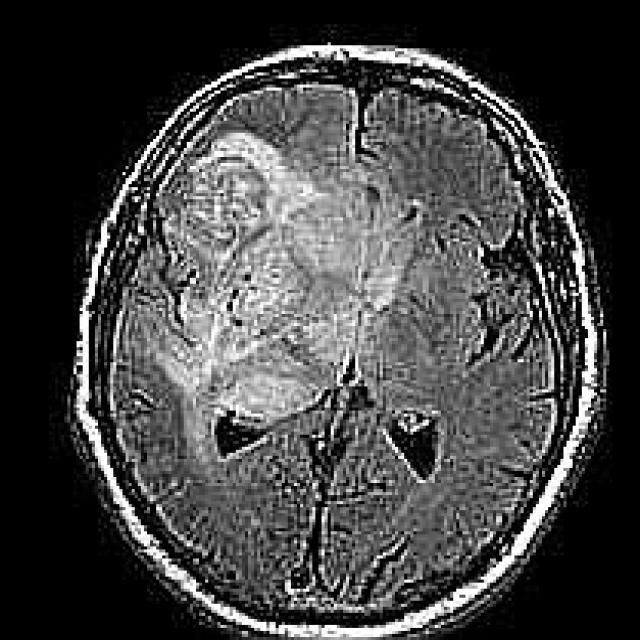Tumor-Cell: (142, 146, 373, 444)
